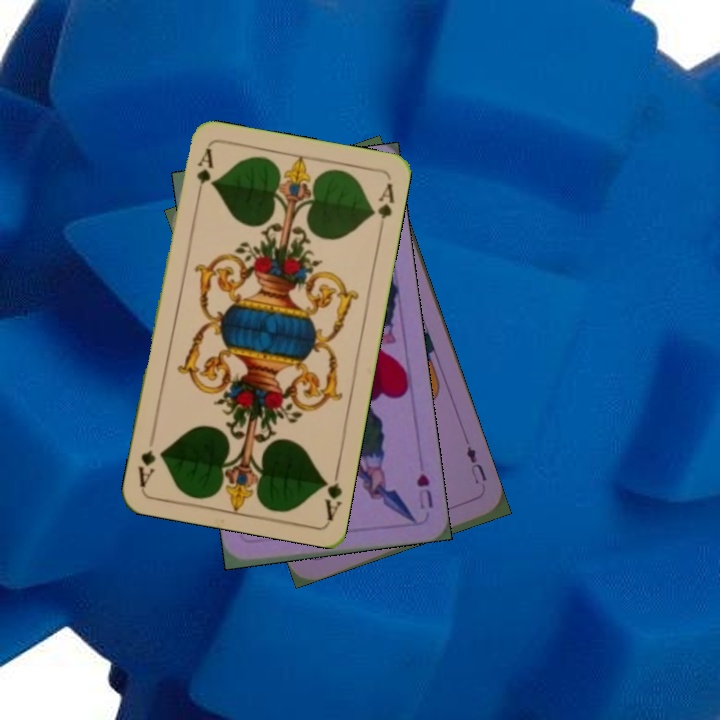EU: (462, 442, 490, 487)
GA: (318, 463, 345, 522), (192, 145, 216, 203)
HU: (412, 470, 436, 512)
